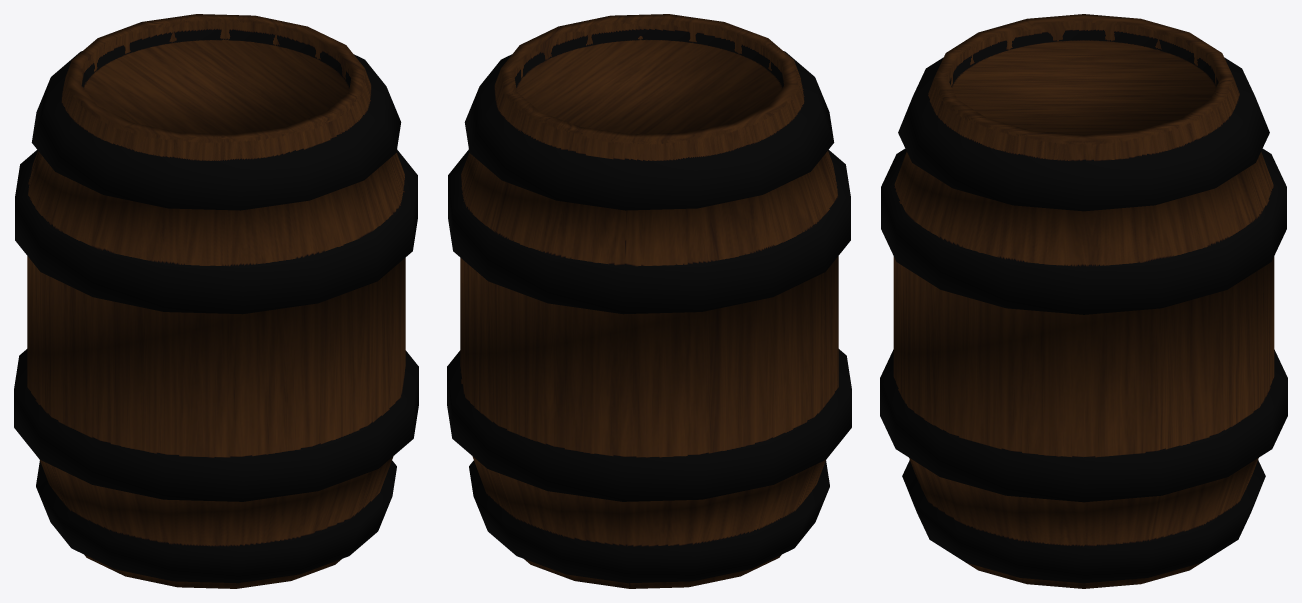
File: barell - Copy.obj
3 renders of one model, left to right at view 1: azimuth 30°, elevation 25°; view 2: azimuth 150°, elevation 25°; view 3: azimuth 270°, elevation 25°, orthographic.
Parts seen in each view (by area): view 1: barell; view 2: barell; view 3: barell.
Part boxes in pixels (x1,y1,x2,y2): barell: [14, 14, 418, 588]; barell: [447, 14, 851, 588]; barell: [880, 14, 1287, 588].
Bounding box in the file's own units: 1.6 × 1.94 × 1.6.
Materials: 1 (1 with a texture image).
